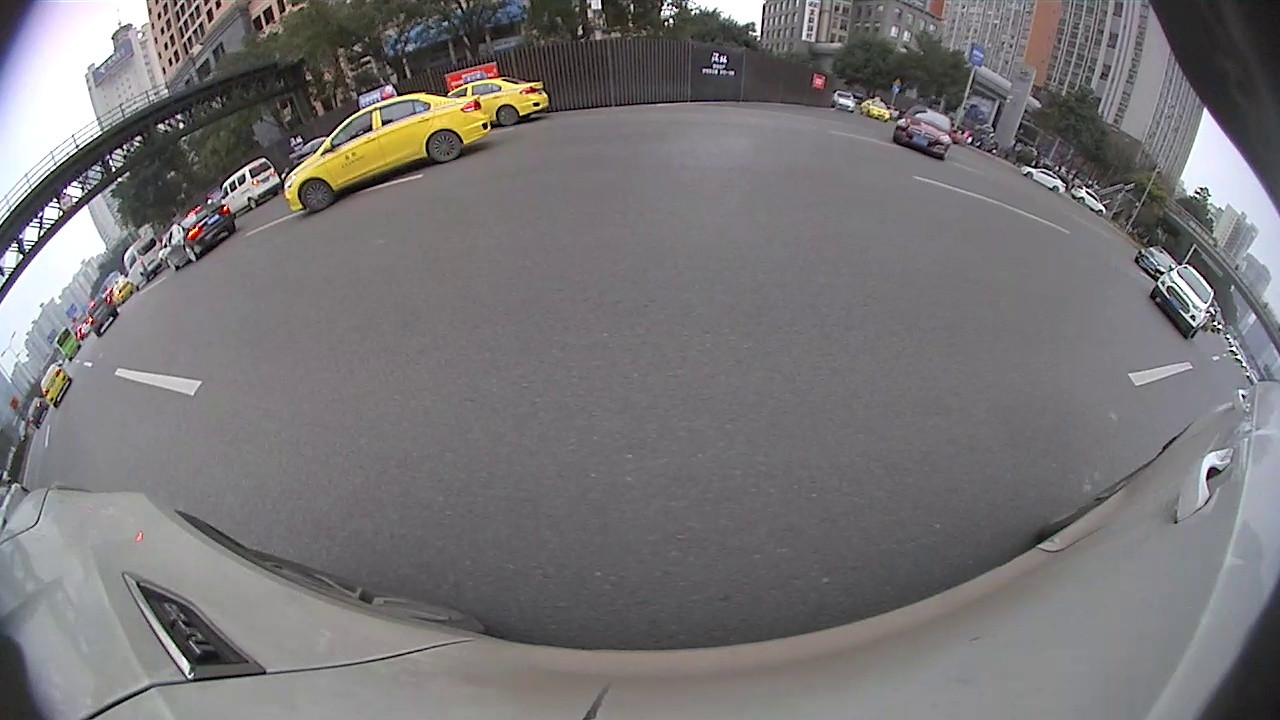car: (283, 83, 493, 215), (446, 72, 548, 129), (160, 202, 237, 273), (1151, 263, 1215, 340), (217, 155, 283, 216), (893, 103, 954, 162), (1134, 242, 1180, 281), (1021, 163, 1067, 198), (38, 362, 72, 409), (1070, 184, 1108, 218)
front: (300, 180, 334, 211), (168, 259, 177, 271)
rear: (428, 127, 459, 163), (498, 103, 518, 128), (185, 247, 195, 262), (248, 198, 257, 207)
